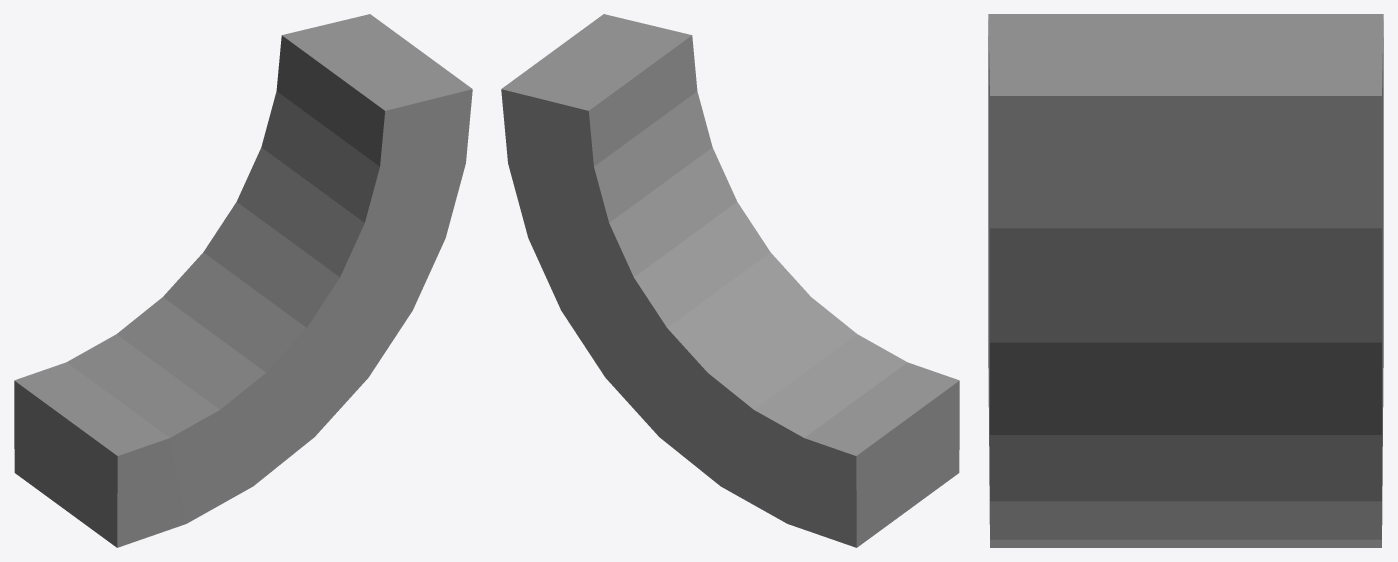
File: obstacle.obj
3 renders of one model, left to right at view 1: azimuth 30°, elevation 25°; view 2: azimuth 150°, elevation 25°; view 3: azimuth 270°, elevation 25°, orthographic. The views are drawn at different scales.
Visible parts, largest first — view 1: Cylinder; view 2: Cylinder; view 3: Cylinder.
Boxes of the visible parts, <box> form: Cylinder: <box>14,14,472,547</box>; Cylinder: <box>501,14,959,547</box>; Cylinder: <box>988,14,1383,547</box>.
Size of the model in its own units: 5 by 5 by 2.52.
1 material, 1 textured.
